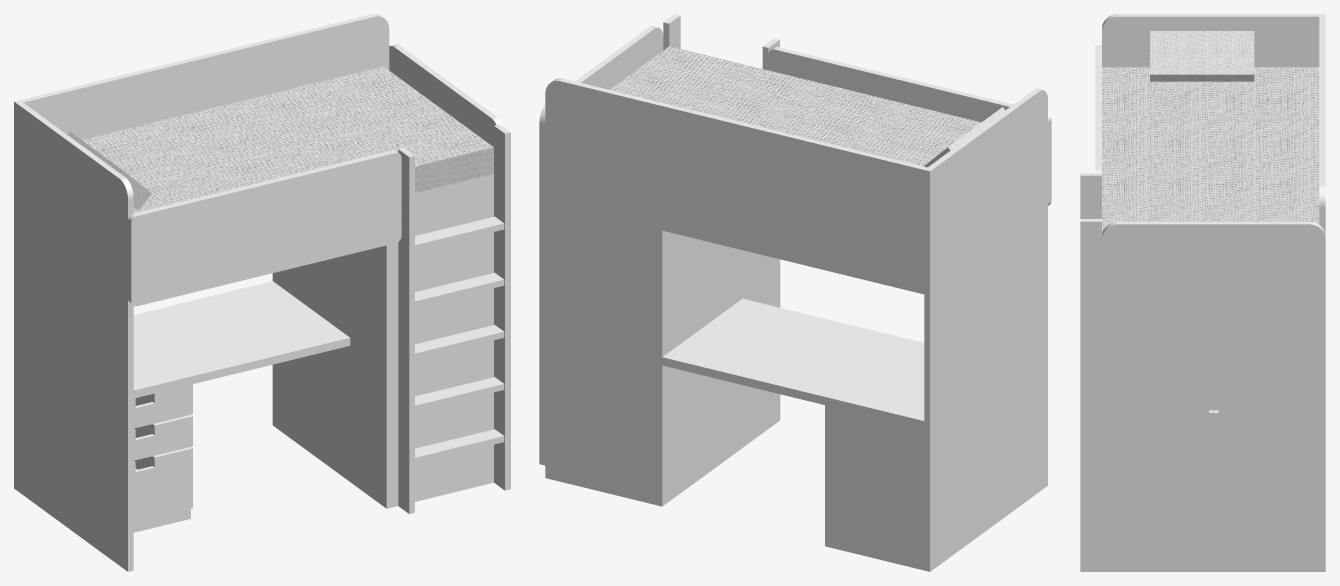
Rendered from STUVA_1_Bed_Mezzanine_Bed_with_Wardrobe_and_Desk.obj.
3 renders of one model, left to right at view 1: azimuth 30°, elevation 25°; view 2: azimuth 150°, elevation 25°; view 3: azimuth 270°, elevation 25°, orthographic. The views are drawn at different scales.
Parts seen in each view (by area): view 1: Line001, Box008, Box012, Line007, Line006, Box009, Line012, Box001, Box002, Line003, Box010, Box003 (+6 smaller); view 2: Box008, Line001, Line006, Box009, Box012, Box011, Line007, Line003, Line008, Line004; view 3: Box012, Line004, Line005, Line003, Line001, Box002, Line013, Box008, Line006, Box001, Line007.
Part boxes in pixels (x1,y1,x2,y2): Line001: [14, 100, 133, 571]; Box008: [272, 216, 493, 508]; Box012: [82, 66, 493, 213]; Line007: [128, 150, 401, 306]; Line006: [20, 14, 389, 139]; Box009: [133, 281, 350, 398]; Line012: [133, 384, 192, 522]; Box001: [398, 147, 414, 513]; Box002: [494, 124, 510, 490]; Line003: [389, 44, 503, 146]; Box010: [415, 174, 493, 234]; Box003: [415, 429, 504, 463]; Box008: [545, 202, 780, 506]; Line001: [924, 88, 1047, 571]; Line006: [545, 78, 927, 294]; Box009: [662, 298, 924, 429]; Box012: [610, 46, 981, 166]; Box011: [827, 405, 922, 557]; Line007: [768, 47, 1051, 205]; Line003: [539, 26, 663, 201]; Line008: [825, 405, 924, 570]; Line004: [539, 200, 545, 465]; Box012: [1102, 67, 1319, 234]; Line004: [1214, 313, 1325, 562]; Line005: [1102, 313, 1213, 562]; Line003: [1102, 221, 1325, 312]; Line001: [1102, 14, 1325, 67]; Box002: [1080, 219, 1101, 571]; Line013: [1150, 31, 1254, 81]; Box008: [1102, 313, 1325, 571]; Line006: [1319, 16, 1325, 233]; Box001: [1080, 173, 1101, 218]; Line007: [1095, 45, 1101, 172].
Bounding box in the file's own units: 1970 × 1930 × 1130.
